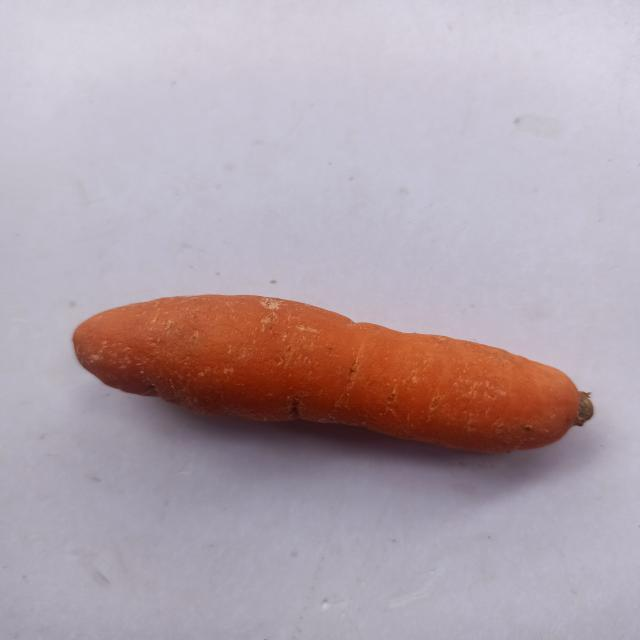Carrot: (69, 282, 640, 480)
